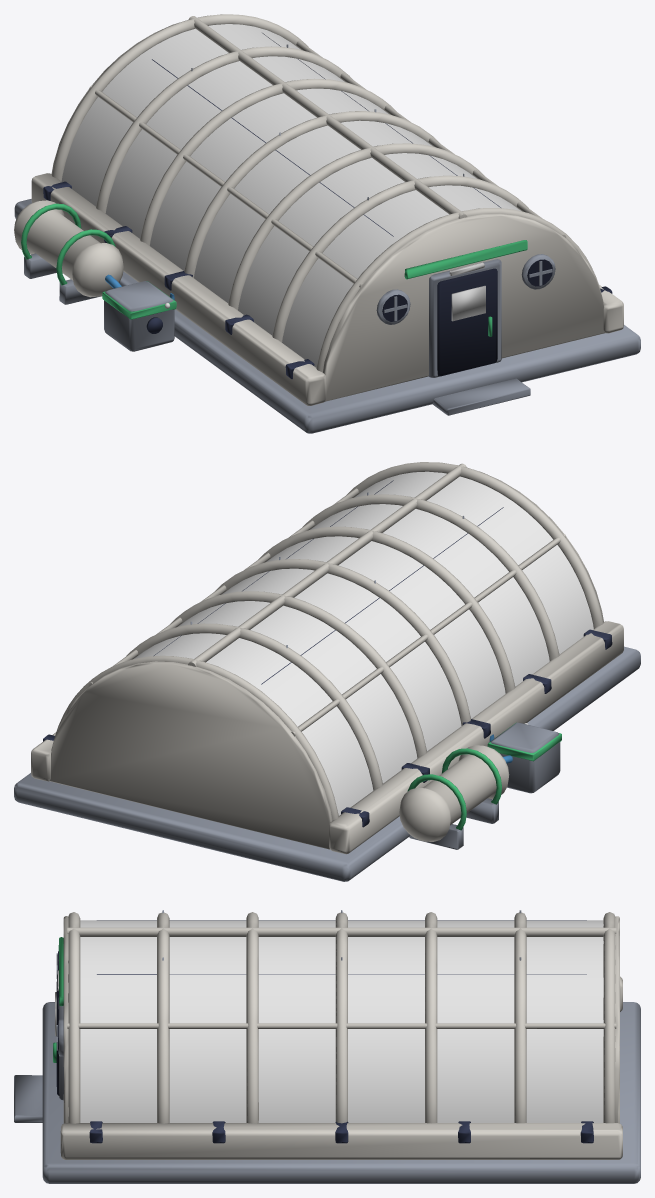
File: farm_low.glb
3 renders of one model, top to bottom at view 1: azimuth 30°, elevation 25°; view 2: azimuth 150°, elevation 25°; view 3: azimuth 270°, elevation 25°, orthographic.
Parts seen in each view (by area): view 1: farm; view 2: farm; view 3: farm.
Part boxes in pixels (bbox=[...]): farm: bbox=[14, 14, 640, 433]; farm: bbox=[14, 462, 640, 881]; farm: bbox=[14, 910, 640, 1183].
Bounding box in the file's own units: 10.24 × 4.33 × 14.04.
